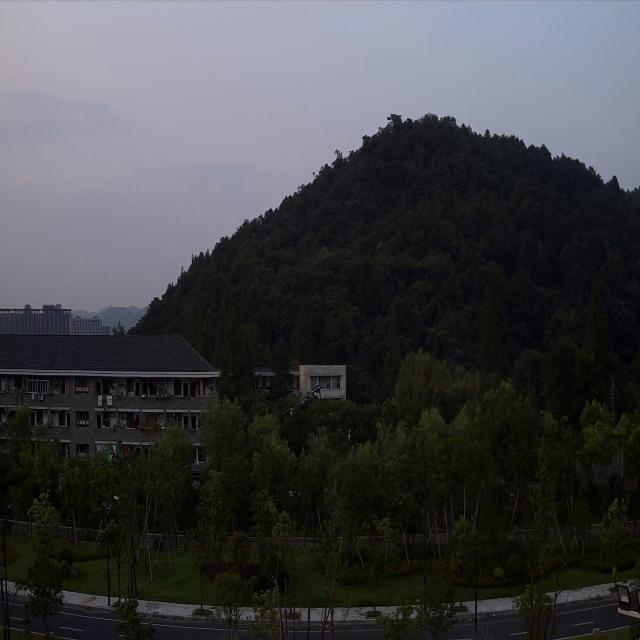UAV: (285, 382, 325, 418)
